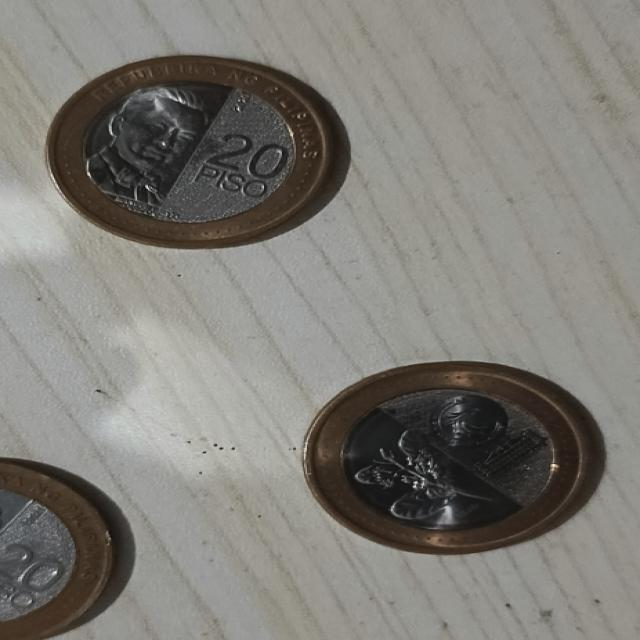20_peso: (304, 364, 600, 551), (47, 56, 332, 247), (0, 458, 112, 639)
